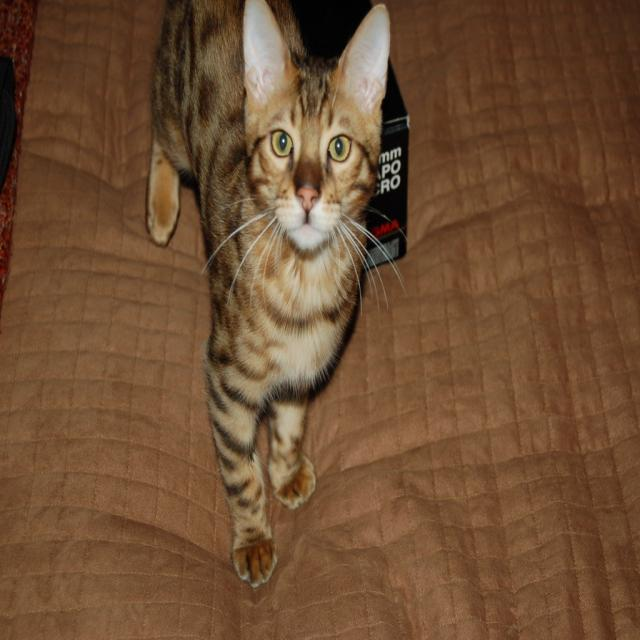Cat: (140, 0, 407, 593)
